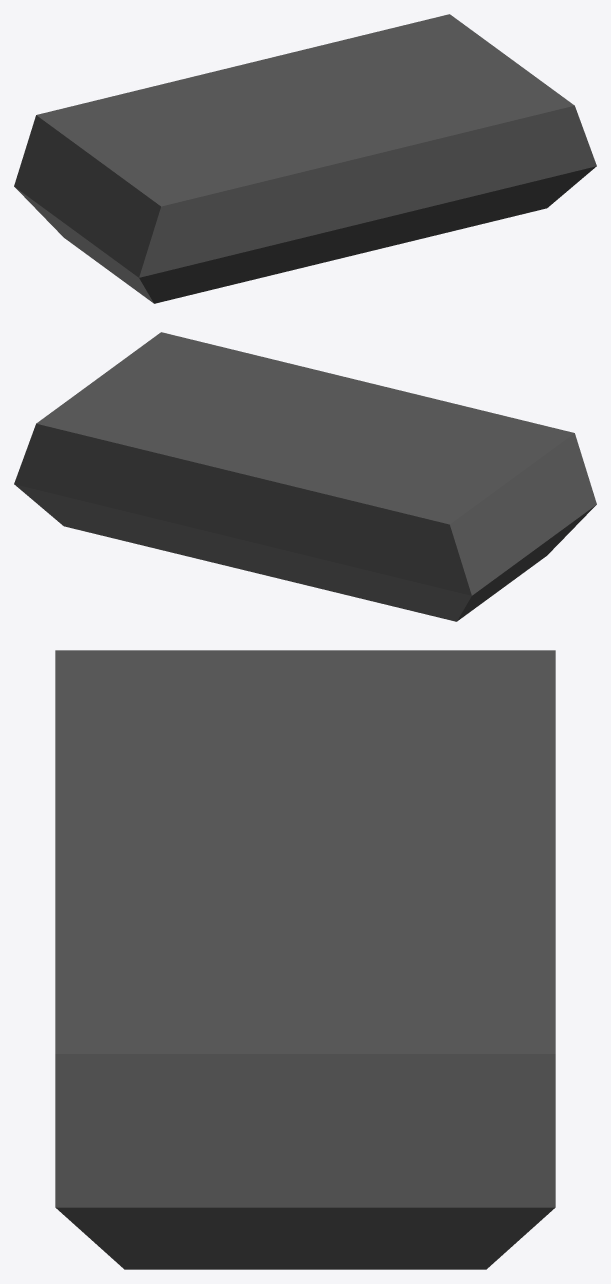
Rendered from Itr_Obj_Grandfatherclock1_Base_04.FBX.
3 renders of one model, top to bottom at view 1: azimuth 30°, elevation 25°; view 2: azimuth 150°, elevation 25°; view 3: azimuth 270°, elevation 25°, orthographic. The views are drawn at different scales.
Parts seen in each view (by area): view 1: Itr_Obj_Grandfatherclock1_Base_04; view 2: Itr_Obj_Grandfatherclock1_Base_04; view 3: Itr_Obj_Grandfatherclock1_Base_04.
Boxes of the visible parts, x1=… form: Itr_Obj_Grandfatherclock1_Base_04: x1=14, y1=14, x2=596, y2=303; Itr_Obj_Grandfatherclock1_Base_04: x1=14, y1=332, x2=596, y2=621; Itr_Obj_Grandfatherclock1_Base_04: x1=55, y1=650, x2=555, y2=1269.
Size of the model in its own units: 22.36 by 5.26 by 10.57.
